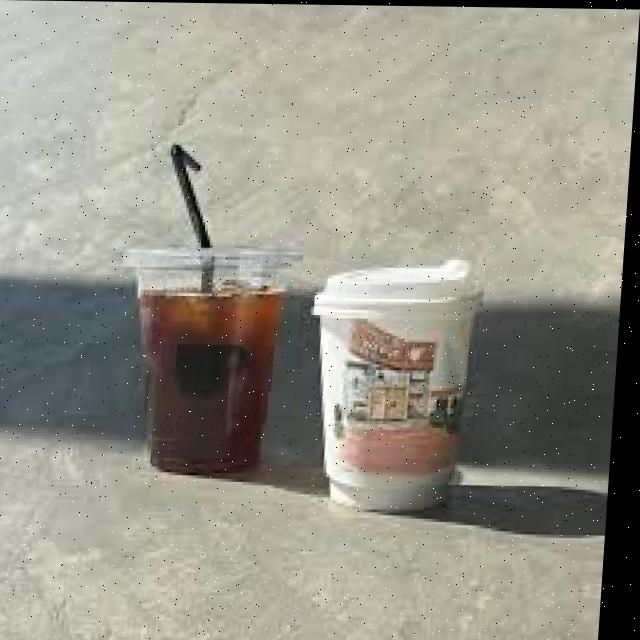cup: (127, 246, 299, 471), (319, 275, 473, 510)
